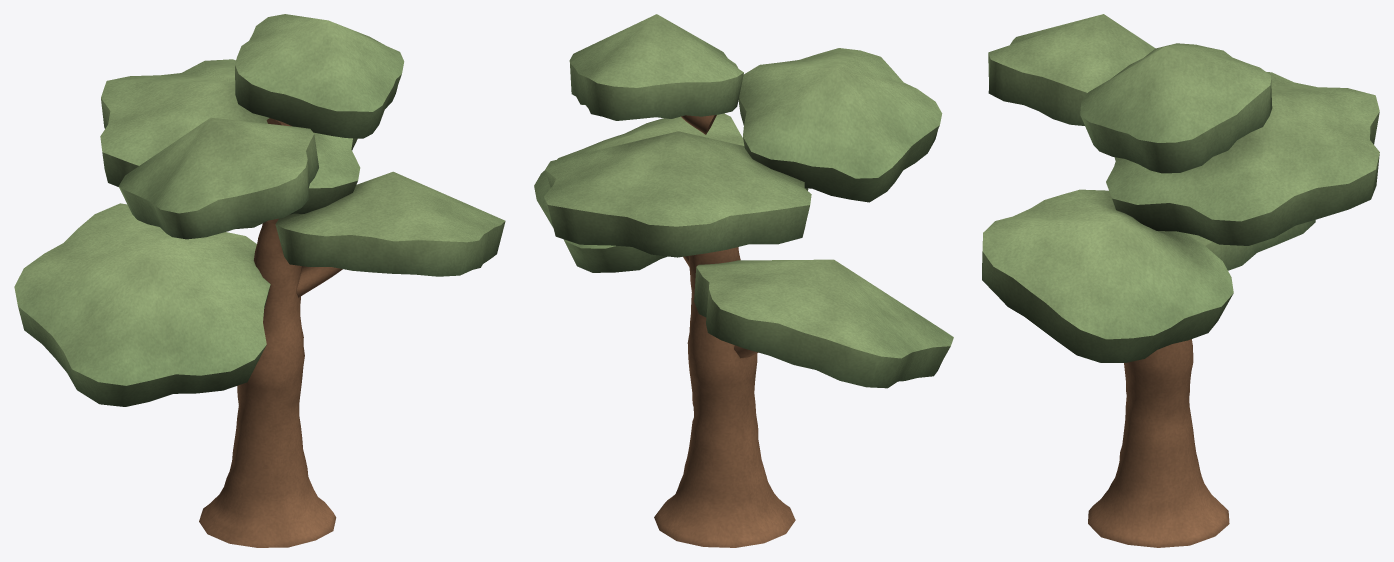
The model's file is d1_tree.glb.
The picture shows the model from 3 angles, left to right: view 1: azimuth 30°, elevation 25°; view 2: azimuth 150°, elevation 25°; view 3: azimuth 270°, elevation 25°; orthographic projection. The views are drawn at different scales.
Parts seen in each view (by area): view 1: Tree; view 2: Tree; view 3: Tree.
Boxes of the visible parts, box(x1,y1,x2,y2) form: Tree: box(14, 14, 505, 547); Tree: box(534, 14, 953, 547); Tree: box(982, 14, 1379, 547).
Bounding box in the file's own units: 2.36 × 2.62 × 1.87.
1 material, 1 textured.
